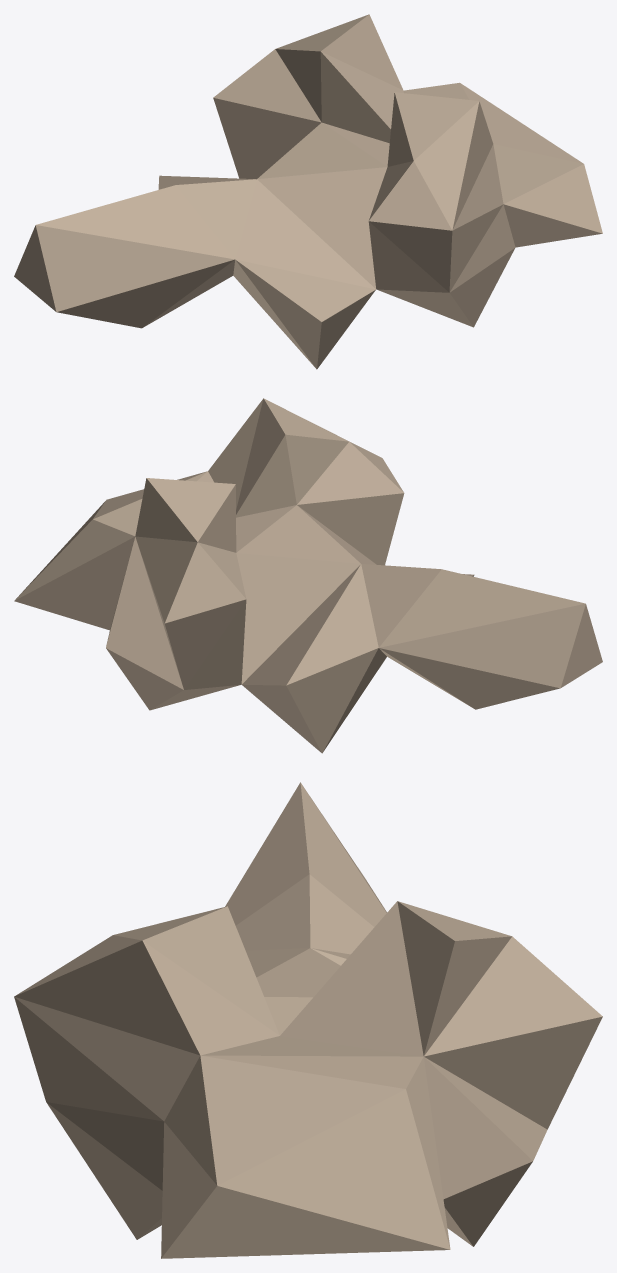
The picture shows the model from 3 angles, top to bottom: view 1: azimuth 30°, elevation 25°; view 2: azimuth 150°, elevation 25°; view 3: azimuth 270°, elevation 25°; orthographic projection. The views are drawn at different scales.
Parts seen in each view (by area): view 1: part0; view 2: part0; view 3: part0.
Part boxes in pixels (x1,y1,x2,y2): part0: (14, 14, 602, 369); part0: (14, 398, 602, 753); part0: (14, 782, 602, 1258).
Size of the model in its own units: 10.43 by 4.35 by 7.4.
